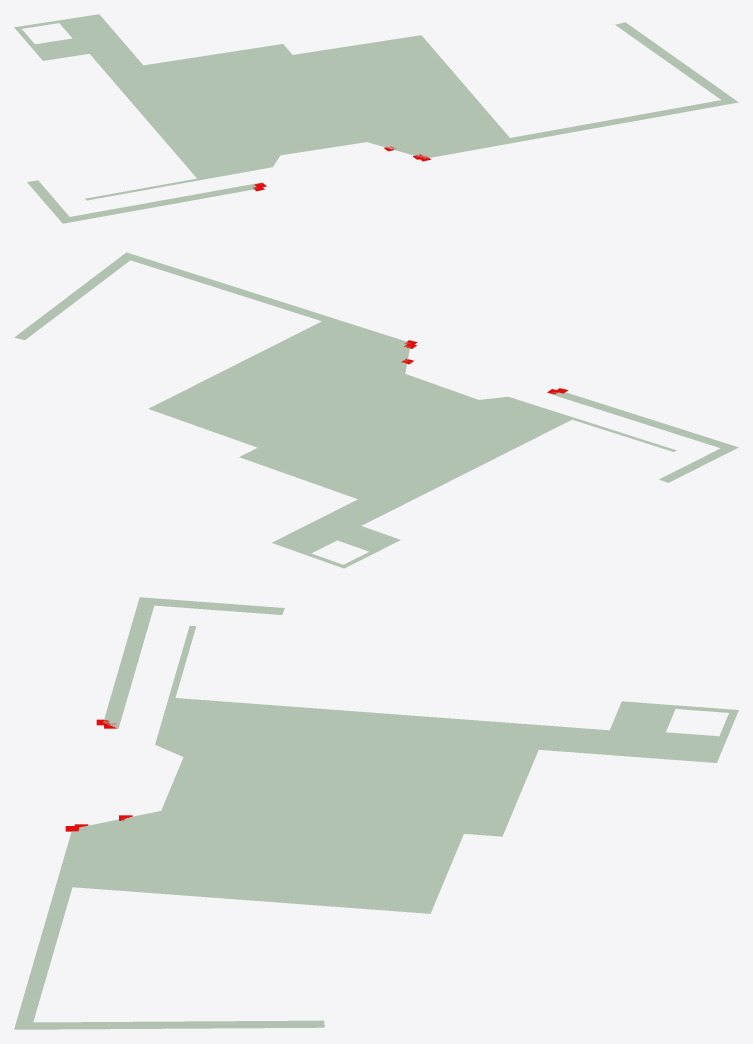
The model's file is floor-487500.glb.
The picture shows the model from 3 angles, top to bottom: view 1: azimuth 30°, elevation 25°; view 2: azimuth 150°, elevation 25°; view 3: azimuth 270°, elevation 25°; orthographic projection. The views are drawn at different scales.
Visible parts, largest first — view 1: SectionBody_12,655a4c80-5074-47b9-a906-6dae9025e47b, SectionBody_5,f5be9884-1ec4-4bdf-83fe-4a4f57898bca, SectionBody_17,188ced9f-8953-4fa2-9da6-4d38ebbba89a, SectionBody_14,817ea7ed-bc4a-429e-8aee-e4c509cef56e, SectionBody_15,4a787c18-0a65-4c3d-a247-b4a747b72b2c, SectionBody_9,28b44917-900a-45e6-ad66-e7244a49c854, SectionBody_11,67384a9e-0818-4f26-b960-20a7834700e3; view 2: SectionBody_12,655a4c80-5074-47b9-a906-6dae9025e47b, SectionBody_5,f5be9884-1ec4-4bdf-83fe-4a4f57898bca, SectionBody_17,188ced9f-8953-4fa2-9da6-4d38ebbba89a, SectionBody_14,817ea7ed-bc4a-429e-8aee-e4c509cef56e, SectionBody_15,4a787c18-0a65-4c3d-a247-b4a747b72b2c; view 3: SectionBody_12,655a4c80-5074-47b9-a906-6dae9025e47b, SectionBody_5,f5be9884-1ec4-4bdf-83fe-4a4f57898bca, SectionBody_14,817ea7ed-bc4a-429e-8aee-e4c509cef56e, SectionBody_17,188ced9f-8953-4fa2-9da6-4d38ebbba89a, SectionBody_15,4a787c18-0a65-4c3d-a247-b4a747b72b2c, SectionBody_9,28b44917-900a-45e6-ad66-e7244a49c854.
Boxes of the visible parts, left/top/right/bottom form: SectionBody_12,655a4c80-5074-47b9-a906-6dae9025e47b: left=14, top=14, right=509, bottom=175; SectionBody_5,f5be9884-1ec4-4bdf-83fe-4a4f57898bca: left=413, top=98, right=738, bottom=158; SectionBody_17,188ced9f-8953-4fa2-9da6-4d38ebbba89a: left=59, top=182, right=262, bottom=223; SectionBody_14,817ea7ed-bc4a-429e-8aee-e4c509cef56e: left=615, top=22, right=731, bottom=99; SectionBody_15,4a787c18-0a65-4c3d-a247-b4a747b72b2c: left=27, top=180, right=69, bottom=218; SectionBody_9,28b44917-900a-45e6-ad66-e7244a49c854: left=195, top=163, right=262, bottom=180; SectionBody_11,67384a9e-0818-4f26-b960-20a7834700e3: left=267, top=138, right=380, bottom=157; SectionBody_12,655a4c80-5074-47b9-a906-6dae9025e47b: left=148, top=321, right=566, bottom=568; SectionBody_5,f5be9884-1ec4-4bdf-83fe-4a4f57898bca: left=121, top=252, right=409, bottom=349; SectionBody_17,188ced9f-8953-4fa2-9da6-4d38ebbba89a: left=547, top=392, right=738, bottom=451; SectionBody_14,817ea7ed-bc4a-429e-8aee-e4c509cef56e: left=14, top=257, right=129, bottom=339; SectionBody_15,4a787c18-0a65-4c3d-a247-b4a747b72b2c: left=659, top=448, right=730, bottom=482; SectionBody_12,655a4c80-5074-47b9-a906-6dae9025e47b: left=72, top=698, right=738, bottom=913; SectionBody_5,f5be9884-1ec4-4bdf-83fe-4a4f57898bca: left=14, top=825, right=90, bottom=1029; SectionBody_14,817ea7ed-bc4a-429e-8aee-e4c509cef56e: left=31, top=1020, right=324, bottom=1029; SectionBody_17,188ced9f-8953-4fa2-9da6-4d38ebbba89a: left=103, top=597, right=156, bottom=728; SectionBody_15,4a787c18-0a65-4c3d-a247-b4a747b72b2c: left=154, top=598, right=284, bottom=614; SectionBody_9,28b44917-900a-45e6-ad66-e7244a49c854: left=157, top=697, right=185, bottom=741.
Size of the model in its own units: 30107 by 0 by 21325.
